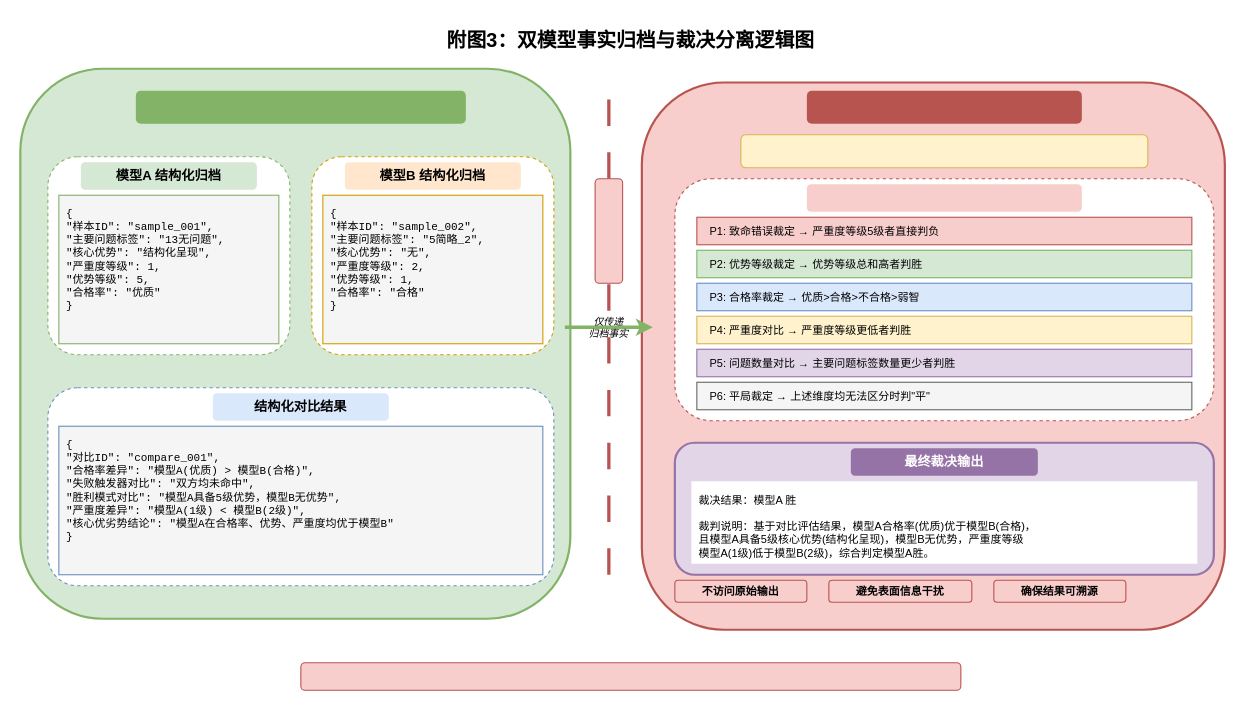
This 1244x710 diagram has some shape labels left out. Each missing label, with the centre of its shape:
"事实与裁决分离机制 - 裁决层仅基于结构化事实判定，不访问原始输出" belongs at pixel 630 676.
"事实归档层（第一、二、三阶段）" belongs at pixel 300 106.
"多维度裁决规则（按优先级执行）" belongs at pixel 943 197.
"裁决推理层（第四阶段）" belongs at pixel 943 106.
"输入：仅读取结构化归档事实" belongs at pixel 944 151.
"隔离边界" belongs at pixel 608 230.
